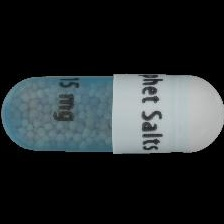0555-0791: (0, 0, 224, 224)
